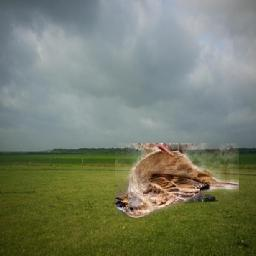Sparrow: (115, 144, 239, 219)
